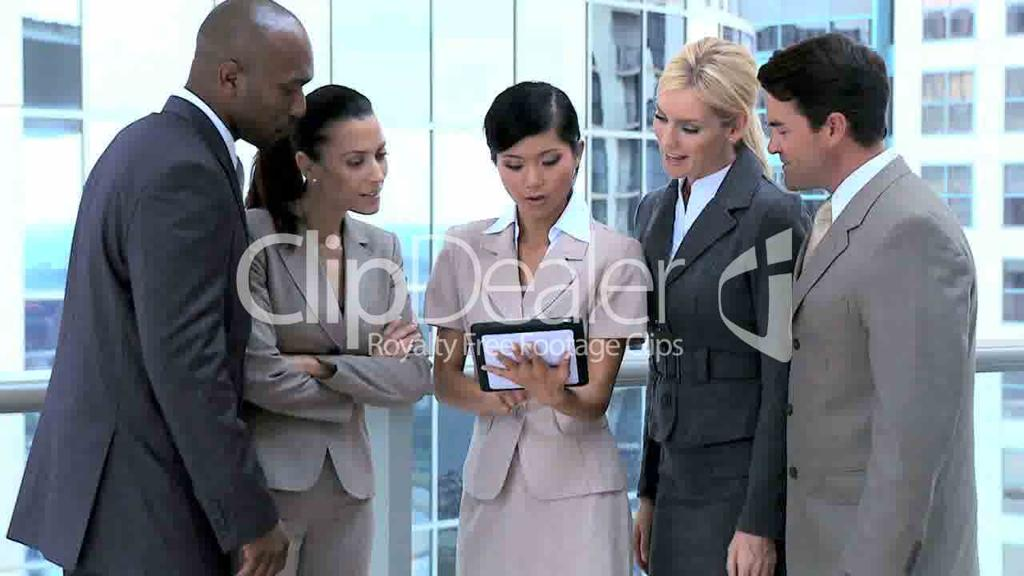face: (248, 26, 314, 148), (320, 112, 388, 216), (764, 82, 828, 190), (652, 86, 728, 174), (496, 134, 574, 218)
